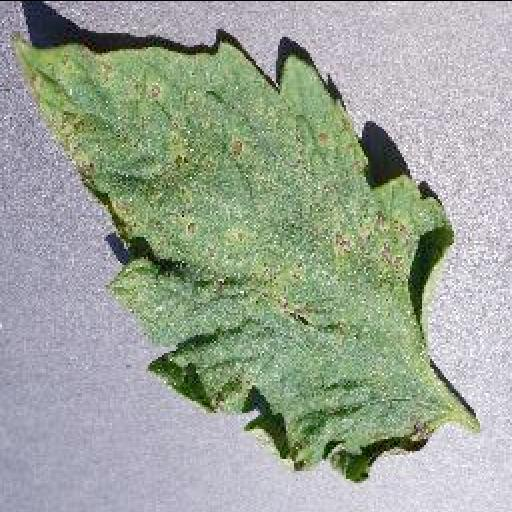disease_tomato: (6, 34, 456, 484)
